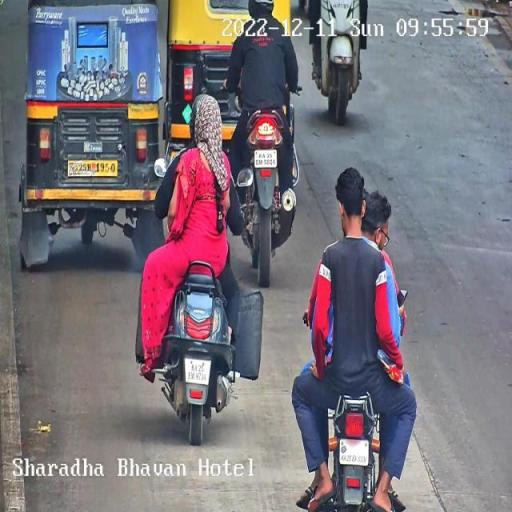tripple riding: (300, 164, 412, 396)
